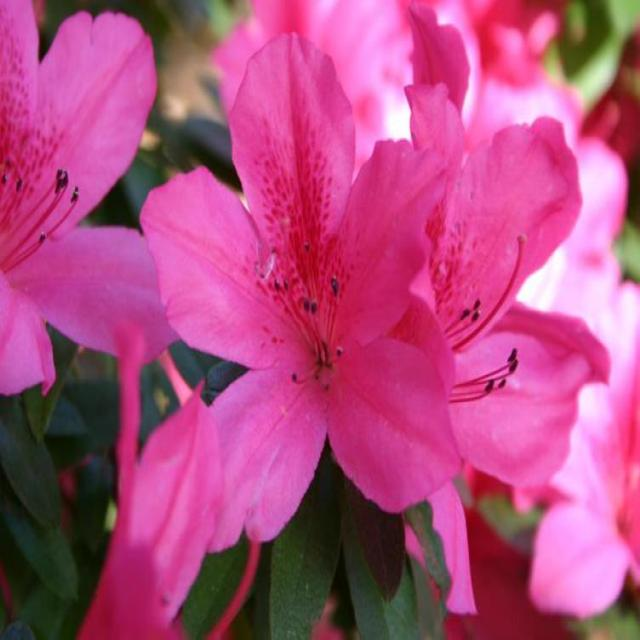azalea: (141, 42, 454, 563)
